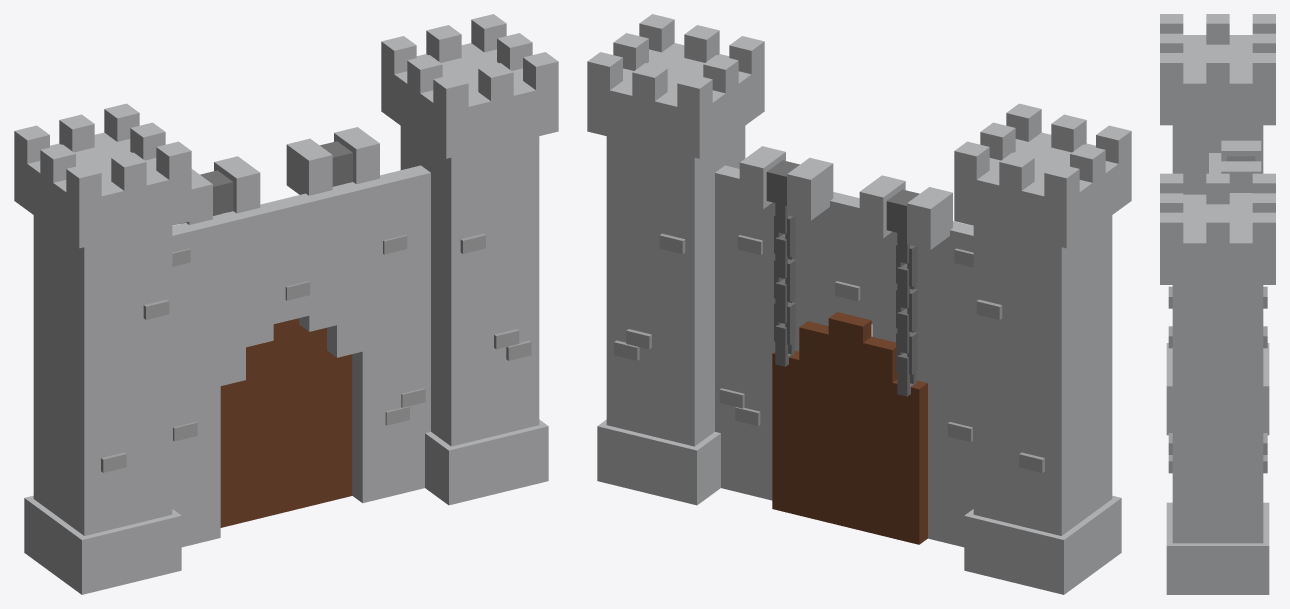
File: Gate.fbx
3 renders of one model, left to right at view 1: azimuth 30°, elevation 25°; view 2: azimuth 150°, elevation 25°; view 3: azimuth 270°, elevation 25°, orthographic. The views are drawn at different scales.
Parts seen in each view (by area): view 1: Structure, Door; view 2: Structure, Door, Chains; view 3: Structure.
Part boxes in pixels (left/top/right/bottom): Structure: left=14, top=14, right=558, bottom=594; Door: left=220, top=318, right=352, bottom=527; Structure: left=587, top=14, right=1131, bottom=594; Door: left=772, top=312, right=927, bottom=544; Chains: left=774, top=203, right=917, bottom=396; Structure: left=1160, top=14, right=1275, bottom=594.
Bounding box in the file's own units: 1864 × 1564 × 437.
